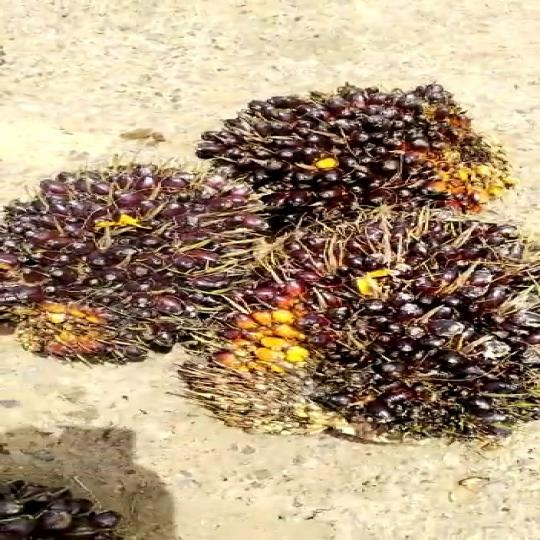mentah: (165, 217, 540, 441), (0, 170, 278, 360), (243, 79, 521, 237)
